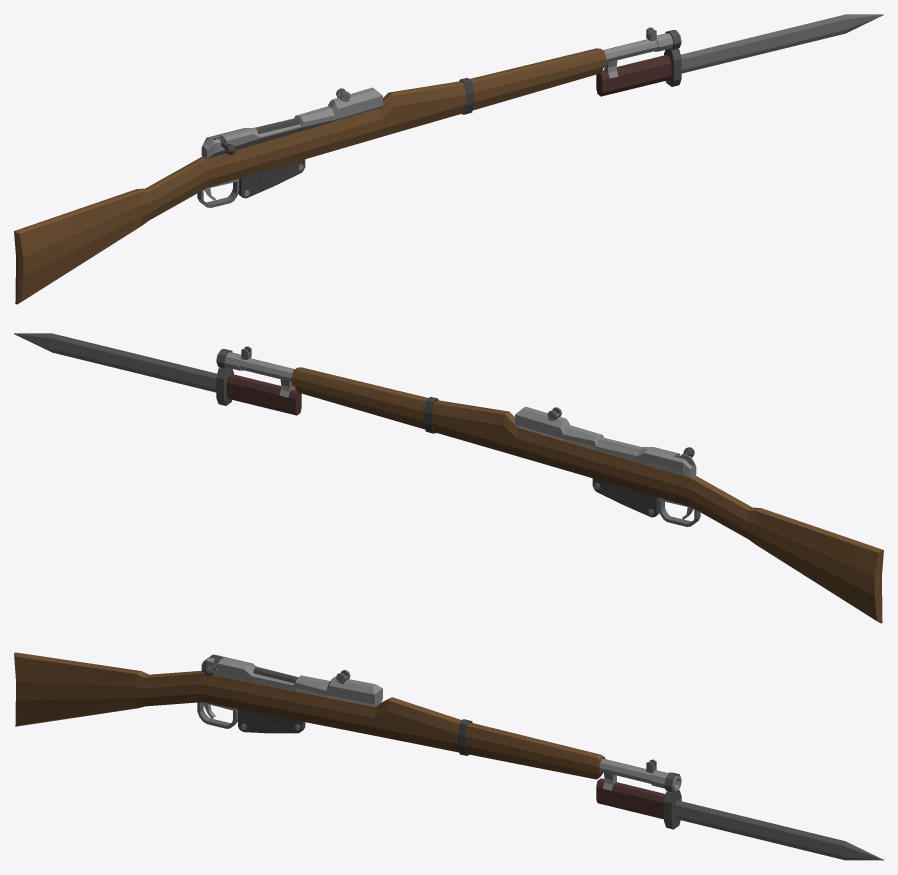
The model's file is WW1 Rifle.fbx.
3 views of the same model, one above another, from view 1: azimuth 30°, elevation 25°; view 2: azimuth 150°, elevation 25°; view 3: azimuth 330°, elevation 25° (orthographic).
Parts seen in each view (by area): view 1: WW1 Rifle, Bayonet, Clip; view 2: WW1 Rifle, Bayonet, Clip; view 3: WW1 Rifle, Bayonet, Clip, Bolt.
Boxes of the visible parts, x1,y1,x2,y2 form: WW1 Rifle: [14, 27, 681, 304]; Bayonet: [596, 14, 883, 96]; Clip: [238, 159, 305, 198]; WW1 Rifle: [216, 346, 883, 623]; Bayonet: [14, 333, 301, 415]; Clip: [592, 478, 659, 517]; WW1 Rifle: [14, 652, 681, 790]; Bayonet: [596, 772, 883, 860]; Clip: [238, 709, 305, 733]; Bolt: [203, 658, 297, 683].
Bounding box in the file's own units: 1137 × 168 × 42.18.
